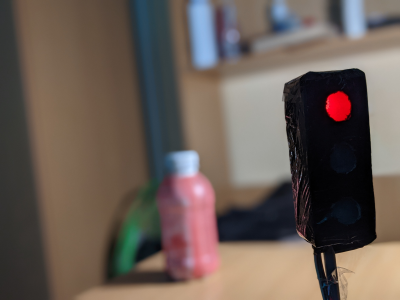trafficlight_red: (305, 73, 375, 241)
